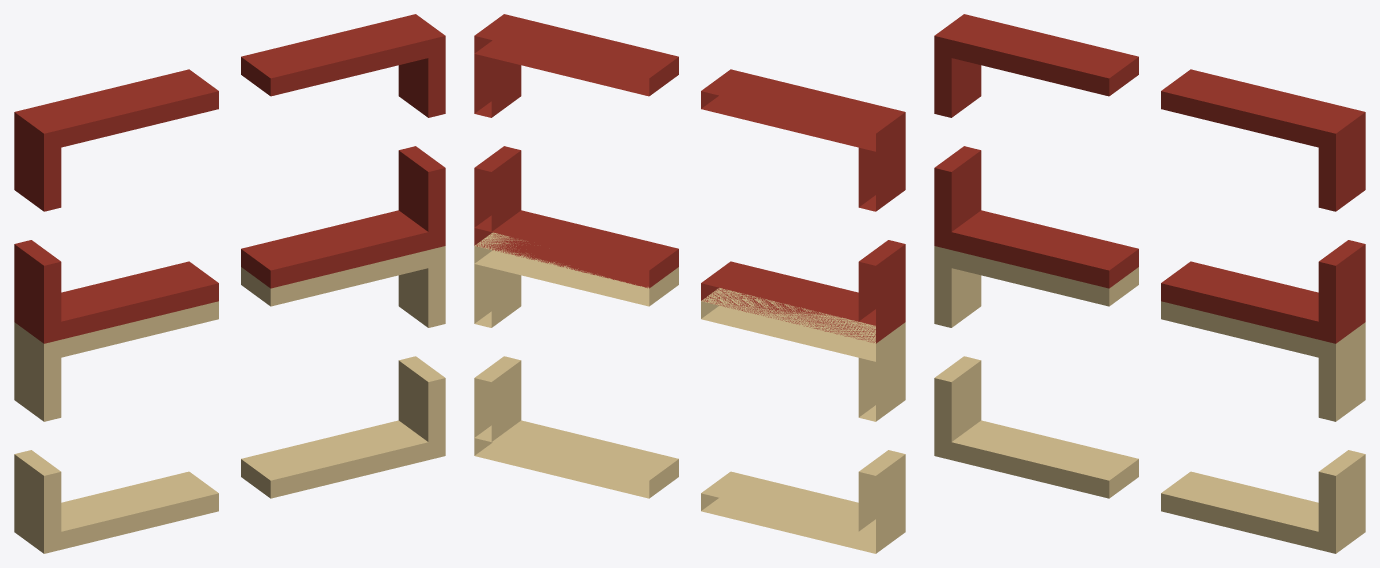
File: construction_0.glb
3 renders of one model, left to right at view 1: azimuth 30°, elevation 25°; view 2: azimuth 150°, elevation 25°; view 3: azimuth 330°, elevation 25°, orthographic.
Visible parts, largest first — view 1: construction_0; view 2: construction_0; view 3: construction_0.
Part boxes in pixels (x1,y1,x2,y2): construction_0: (14, 14, 445, 553); construction_0: (474, 14, 905, 553); construction_0: (934, 14, 1365, 553).
Size of the model in its own units: 14 by 14 by 1.8.
